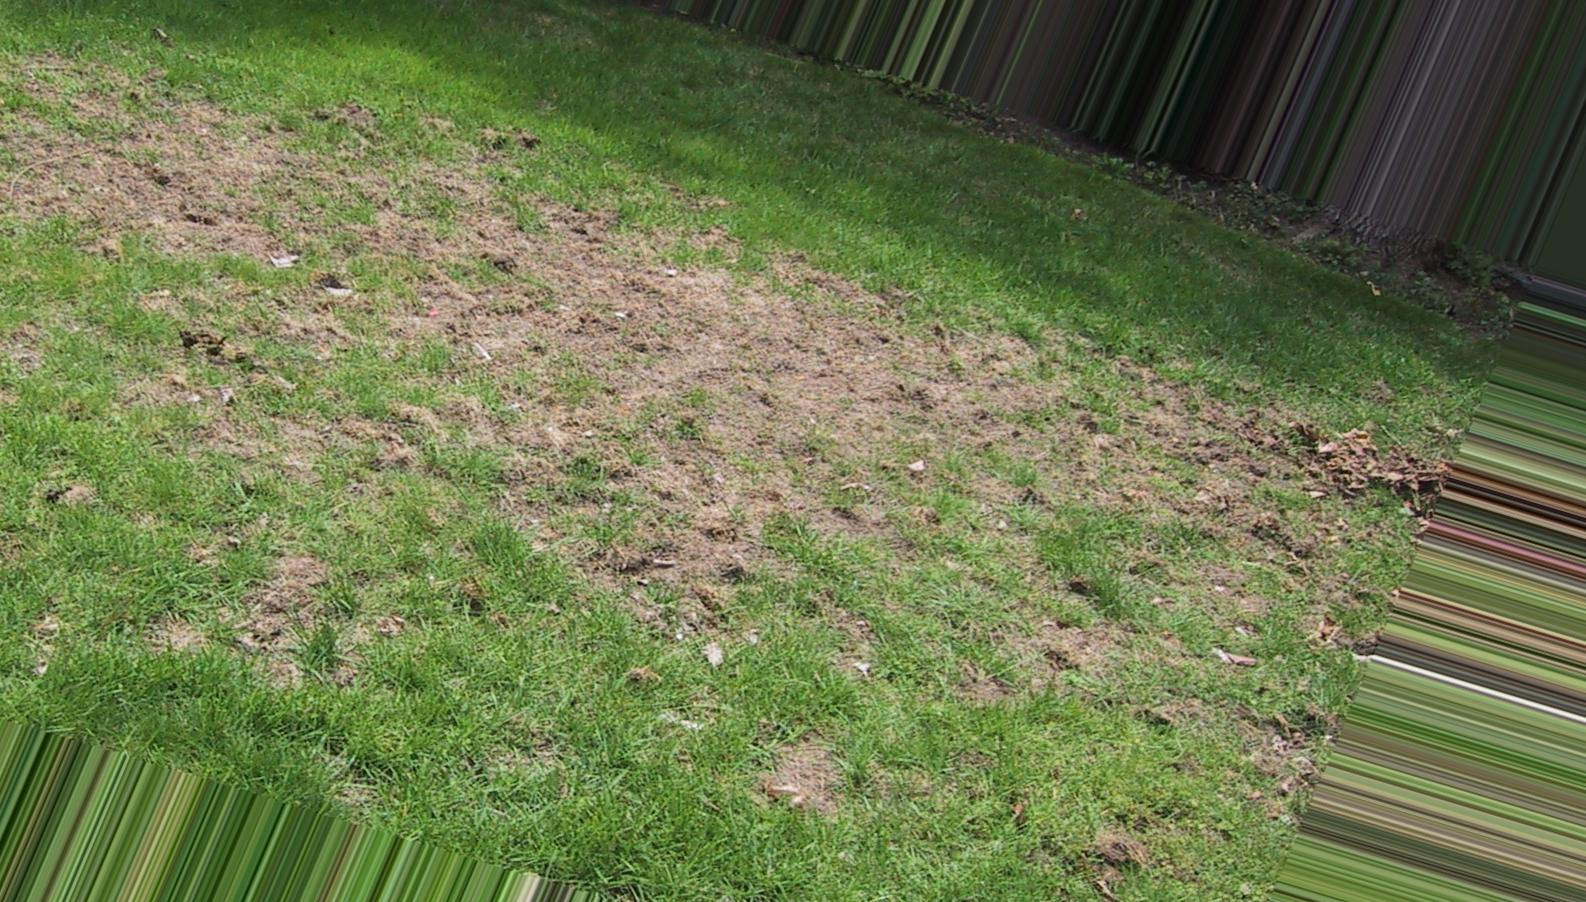patch: (233, 162, 629, 493), (646, 273, 1008, 568), (1079, 387, 1279, 596)
